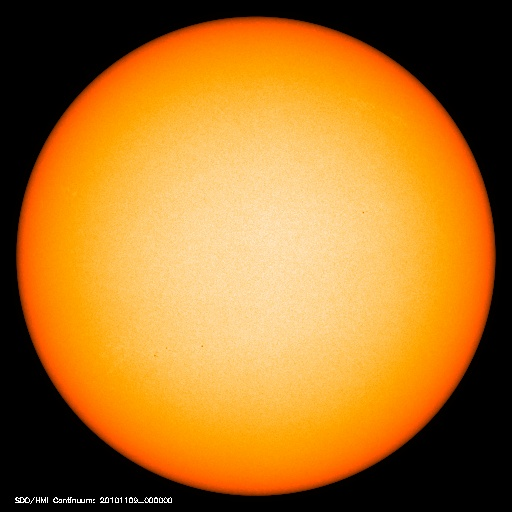sunspot: (140, 335, 210, 370), (351, 196, 379, 224)
